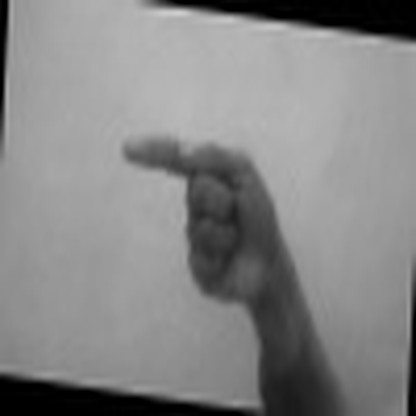g: (106, 119, 309, 308)
